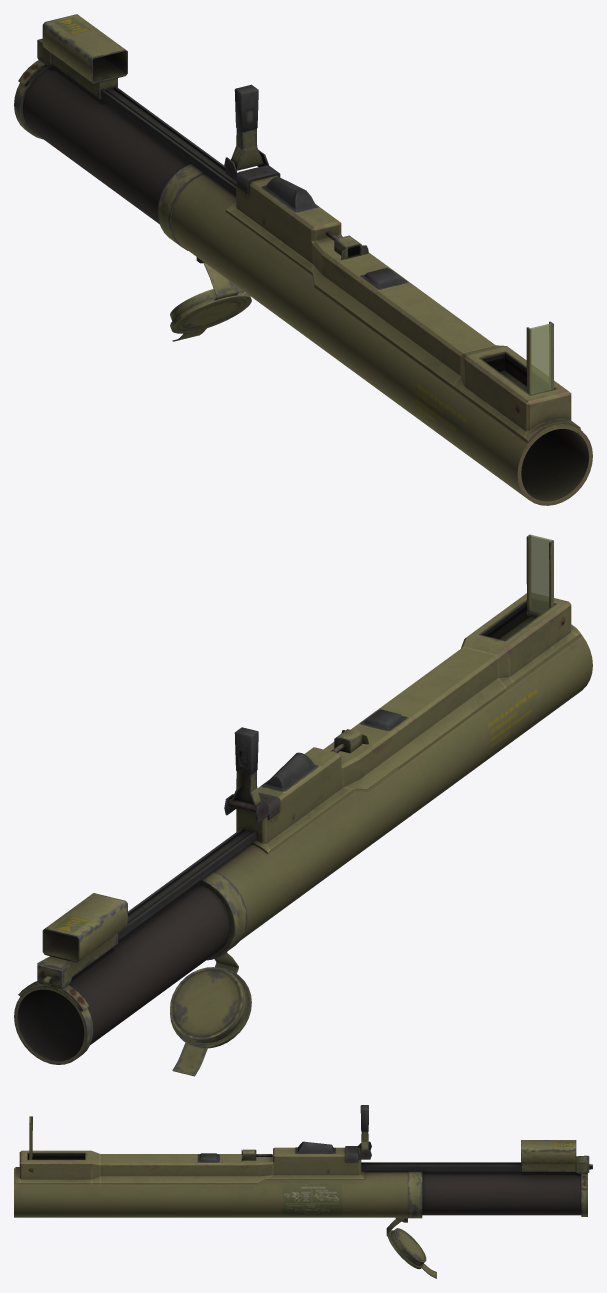
File: law_weapon.fbx
3 renders of one model, top to bottom at view 1: azimuth 30°, elevation 25°; view 2: azimuth 150°, elevation 25°; view 3: azimuth 270°, elevation 25°, orthographic. The views are drawn at different scales.
Parts seen in each view (by area): view 1: law_weapon; view 2: law_weapon; view 3: law_weapon.
Boxes of the visible parts, x1,y1,x2,y2 form: law_weapon: [14, 14, 592, 505]; law_weapon: [14, 534, 592, 1076]; law_weapon: [14, 1105, 592, 1278].
Size of the model in its own units: 3.07 by 11.25 by 35.02.
